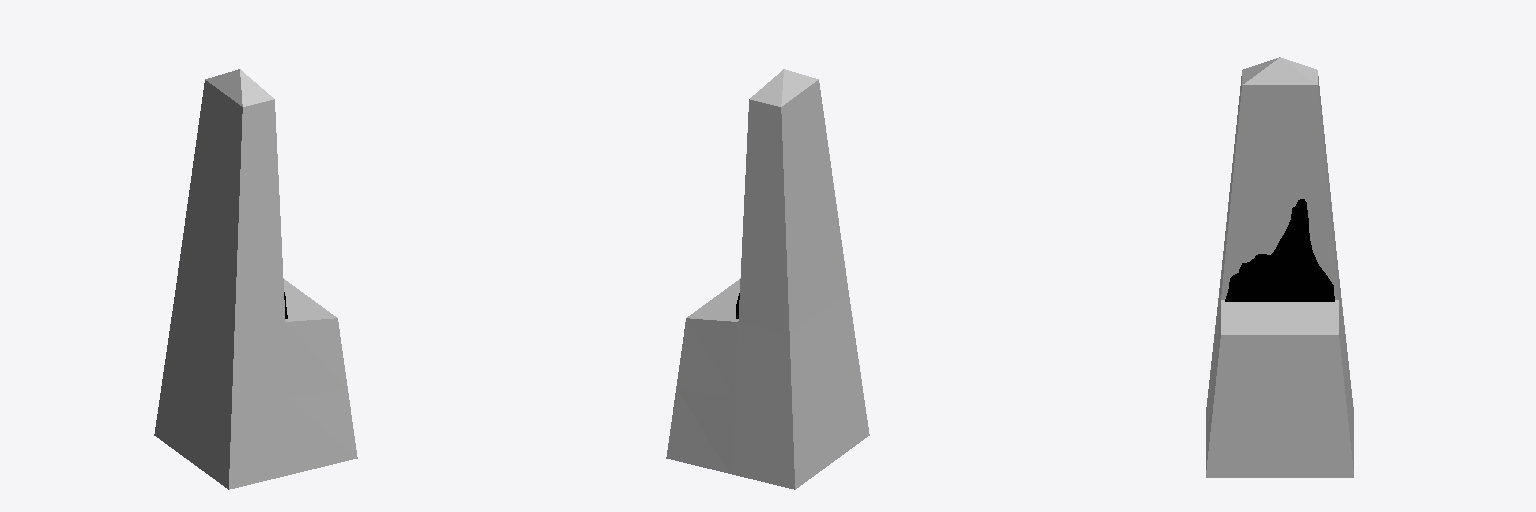
Rendered from esculturaDedoDeDeusPO.obj.
The picture shows the model from 3 angles: view 1: azimuth 30°, elevation 25°; view 2: azimuth 150°, elevation 25°; view 3: azimuth 270°, elevation 25°; orthographic projection.
Visible parts, largest first — view 1: Cubo; view 2: Cubo; view 3: Cubo, Plano_Plano.002.
Part boxes in pixels (left/top/right/bottom): Cubo: left=154, top=69, right=357, bottom=489; Cubo: left=666, top=69, right=869, bottom=489; Cubo: left=1206, top=57, right=1353, bottom=477; Plano_Plano.002: left=1225, top=199, right=1334, bottom=301.
Bounding box in the file's own units: 1.1 × 3.11 × 1.1.